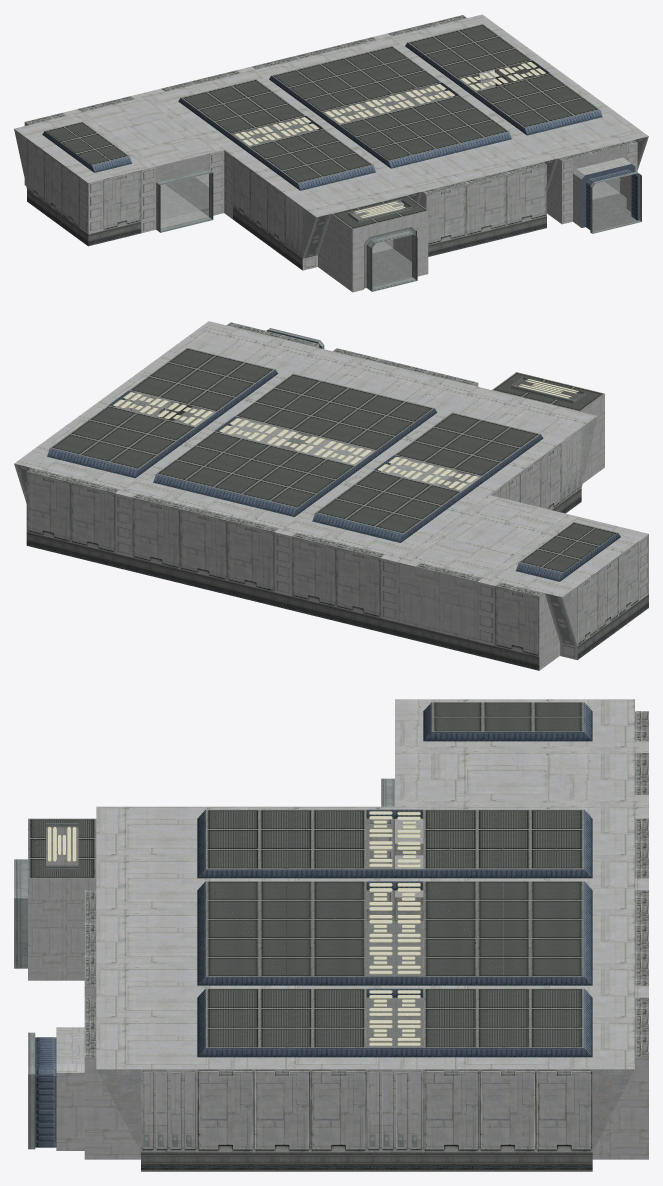
Rendered from mun_all_military_base_police_station_impl_s01_r10_hall2_mesh_r10.fbx.
3 views of the same model, one above another, from view 1: azimuth 30°, elevation 25°; view 2: azimuth 150°, elevation 25°; view 3: azimuth 270°, elevation 25° (orthographic). The views are drawn at different scales.
Parts seen in each view (by area): view 1: mesh_node; view 2: mesh_node; view 3: mesh_node.
Boxes of the visible parts, bbox=[...] form: mesh_node: bbox=[14, 14, 648, 292]; mesh_node: bbox=[14, 321, 648, 670]; mesh_node: bbox=[14, 699, 648, 1171].
Bounding box in the file's own units: 31 × 4.36 × 22.5.
